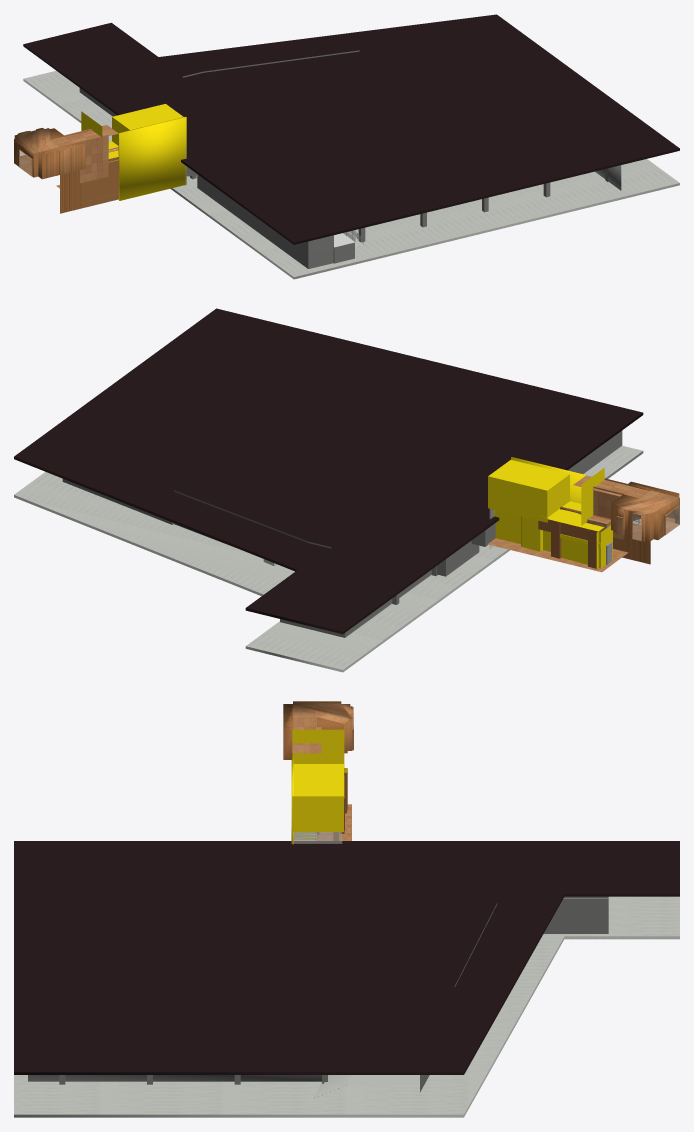
Rendered from MTTM.glb.
3 views of the same model, one above another, from view 1: azimuth 30°, elevation 25°; view 2: azimuth 150°, elevation 25°; view 3: azimuth 270°, elevation 25° (orthographic). The views are drawn at different scales.
Visible parts, largest first — view 1: ISTAIS IZMERS SIENAM.002, ISTAIS IZMERS SIENAM, ieeja, Plane.002, Cube.005, Plane.001, Plane.009, Plane.005, Cube.008, stabi.035, Plane.004; view 2: ISTAIS IZMERS SIENAM.002, ISTAIS IZMERS SIENAM, GERBTUVE, Plane.001, ieeja, Plane.004, Plane.010, Cube.005, mazā_zāle, Cube.013, Plane.005, Plane.008 (+1 smaller); view 3: ISTAIS IZMERS SIENAM.002, ISTAIS IZMERS SIENAM, Plane.001, ieeja, mazā_zāle, Cube.003, Plane.004, mazās_trepes, Plane.005.
Part boxes in pixels (left/top/right/bottom): ISTAIS IZMERS SIENAM.002: left=23, top=14, right=679, bottom=244; ISTAIS IZMERS SIENAM: left=23, top=70, right=679, bottom=279; ieeja: left=14, top=128, right=118, bottom=213; Plane.002: left=118, top=116, right=186, bottom=200; Cube.005: left=197, top=175, right=333, bottom=268; Plane.001: left=112, top=104, right=183, bottom=145; Plane.009: left=80, top=135, right=108, bottom=183; Plane.005: left=51, top=125, right=118, bottom=146; Cube.008: left=333, top=233, right=354, bottom=263; stabi.035: left=190, top=168, right=608, bottom=242; Plane.004: left=81, top=111, right=118, bottom=162; ISTAIS IZMERS SIENAM.002: left=14, top=308, right=643, bottom=634; ISTAIS IZMERS SIENAM: left=14, top=445, right=643, bottom=672; GERBTUVE: left=494, top=506, right=612, bottom=568; Plane.001: left=488, top=460, right=569, bottom=522; ieeja: left=611, top=481, right=679, bottom=564; Plane.004: left=546, top=468, right=604, bottom=525; Plane.010: left=487, top=538, right=628, bottom=572; Cube.005: left=568, top=430, right=622, bottom=473; mazā_zāle: left=280, top=570, right=431, bottom=637; Cube.013: left=437, top=540, right=479, bottom=576; Plane.005: left=573, top=475, right=649, bottom=498; Plane.008: left=593, top=486, right=623, bottom=539; ISTAIS IZMERS SIENAM.002: left=14, top=841, right=679, bottom=1074; ISTAIS IZMERS SIENAM: left=14, top=896, right=679, bottom=1117; Plane.001: left=292, top=764, right=343, bottom=831; ieeja: left=283, top=701, right=353, bottom=759; mazā_zāle: left=543, top=896, right=608, bottom=933; Cube.003: left=28, top=1075, right=321, bottom=1081; Plane.004: left=292, top=729, right=344, bottom=798; mazās_trepes: left=314, top=1075, right=419, bottom=1098; Plane.005: left=292, top=717, right=321, bottom=753.
Size of the model in its own units: 64.84 by 10.36 by 57.03.
Materials: 77 (3 with a texture image).
